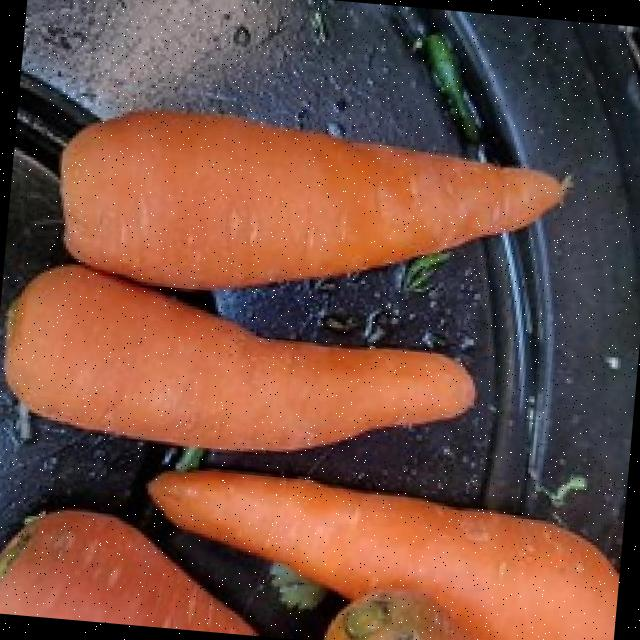carrot: (60, 110, 564, 289), (5, 265, 475, 450), (149, 471, 619, 640), (0, 511, 257, 635), (325, 590, 471, 640)
